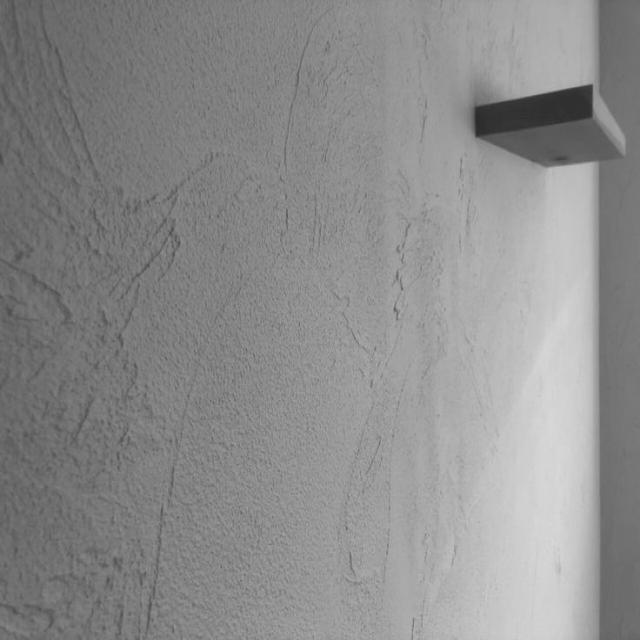trowels marks: (0, 0, 508, 640)
